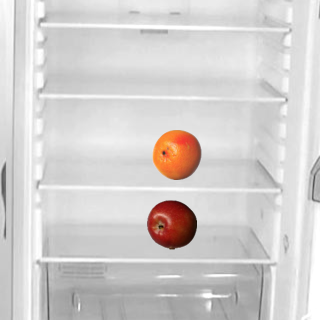Apple Braeburn: (146, 199, 196, 249)
Grapefruit Pink: (151, 129, 201, 179)
